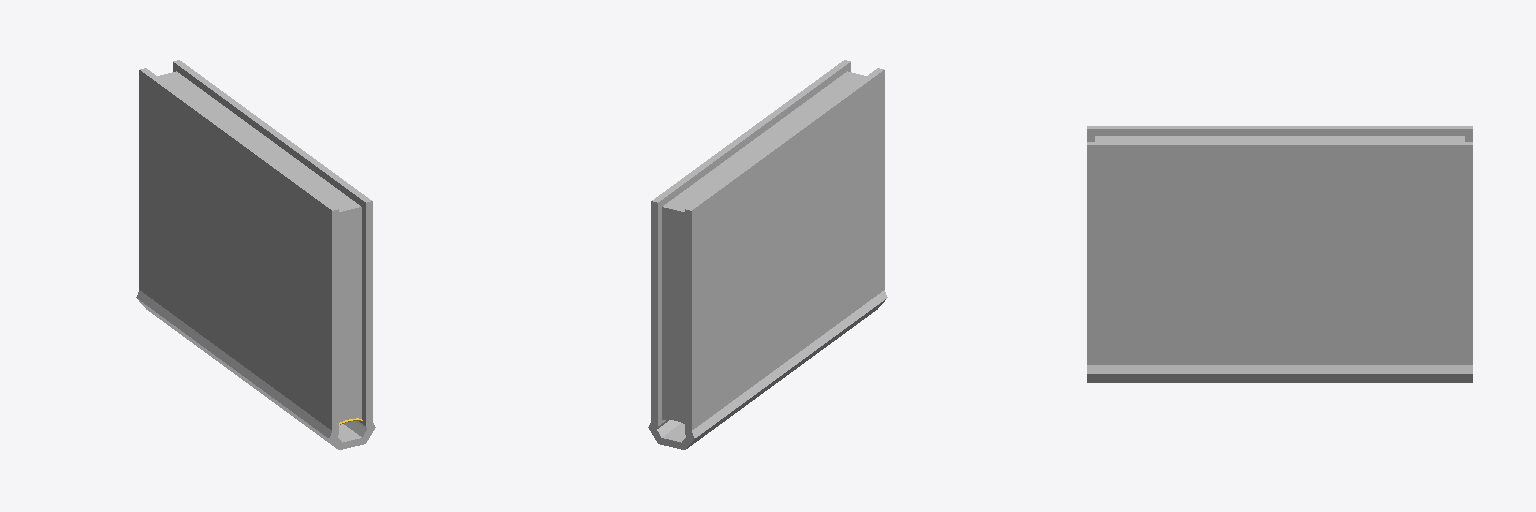
File: book90.obj
3 views of the same model, side by side, from view 1: azimuth 30°, elevation 25°; view 2: azimuth 150°, elevation 25°; view 3: azimuth 270°, elevation 25° (orthographic).
Parts seen in each view (by area): view 1: 00_Cover, 1_Paper; view 2: 00_Cover, 1_Paper; view 3: 00_Cover, 1_Paper.
Part boxes in pixels (left/top/right/bottom): 00_Cover: left=136, top=60, right=375, bottom=449; 1_Paper: left=158, top=71, right=361, bottom=422; 00_Cover: left=648, top=60, right=887, bottom=449; 1_Paper: left=662, top=71, right=865, bottom=423; 00_Cover: left=1087, top=126, right=1472, bottom=382; 1_Paper: left=1095, top=136, right=1464, bottom=141.
Size of the model in its own units: 13.99 by 68.98 by 100.